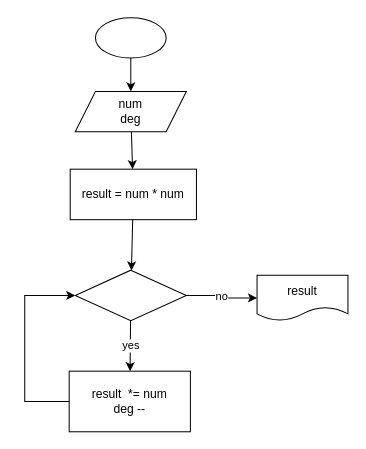
The diagram is 366 pixels wide and 449 high, and some of its shapes have lost their labels. Here are the shapes that lost their labels. From the top down, the centre of each, then its label:
At (x=130, y=37): "start".
At (x=130, y=295): "while deg > 2".
